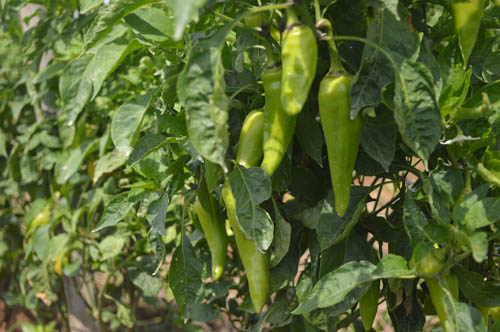ChiliPepper: (321, 81, 362, 218), (226, 188, 269, 311), (255, 74, 296, 179), (276, 31, 318, 124), (197, 196, 224, 286), (234, 108, 268, 178), (428, 272, 458, 325), (356, 281, 380, 330), (456, 5, 477, 60)
